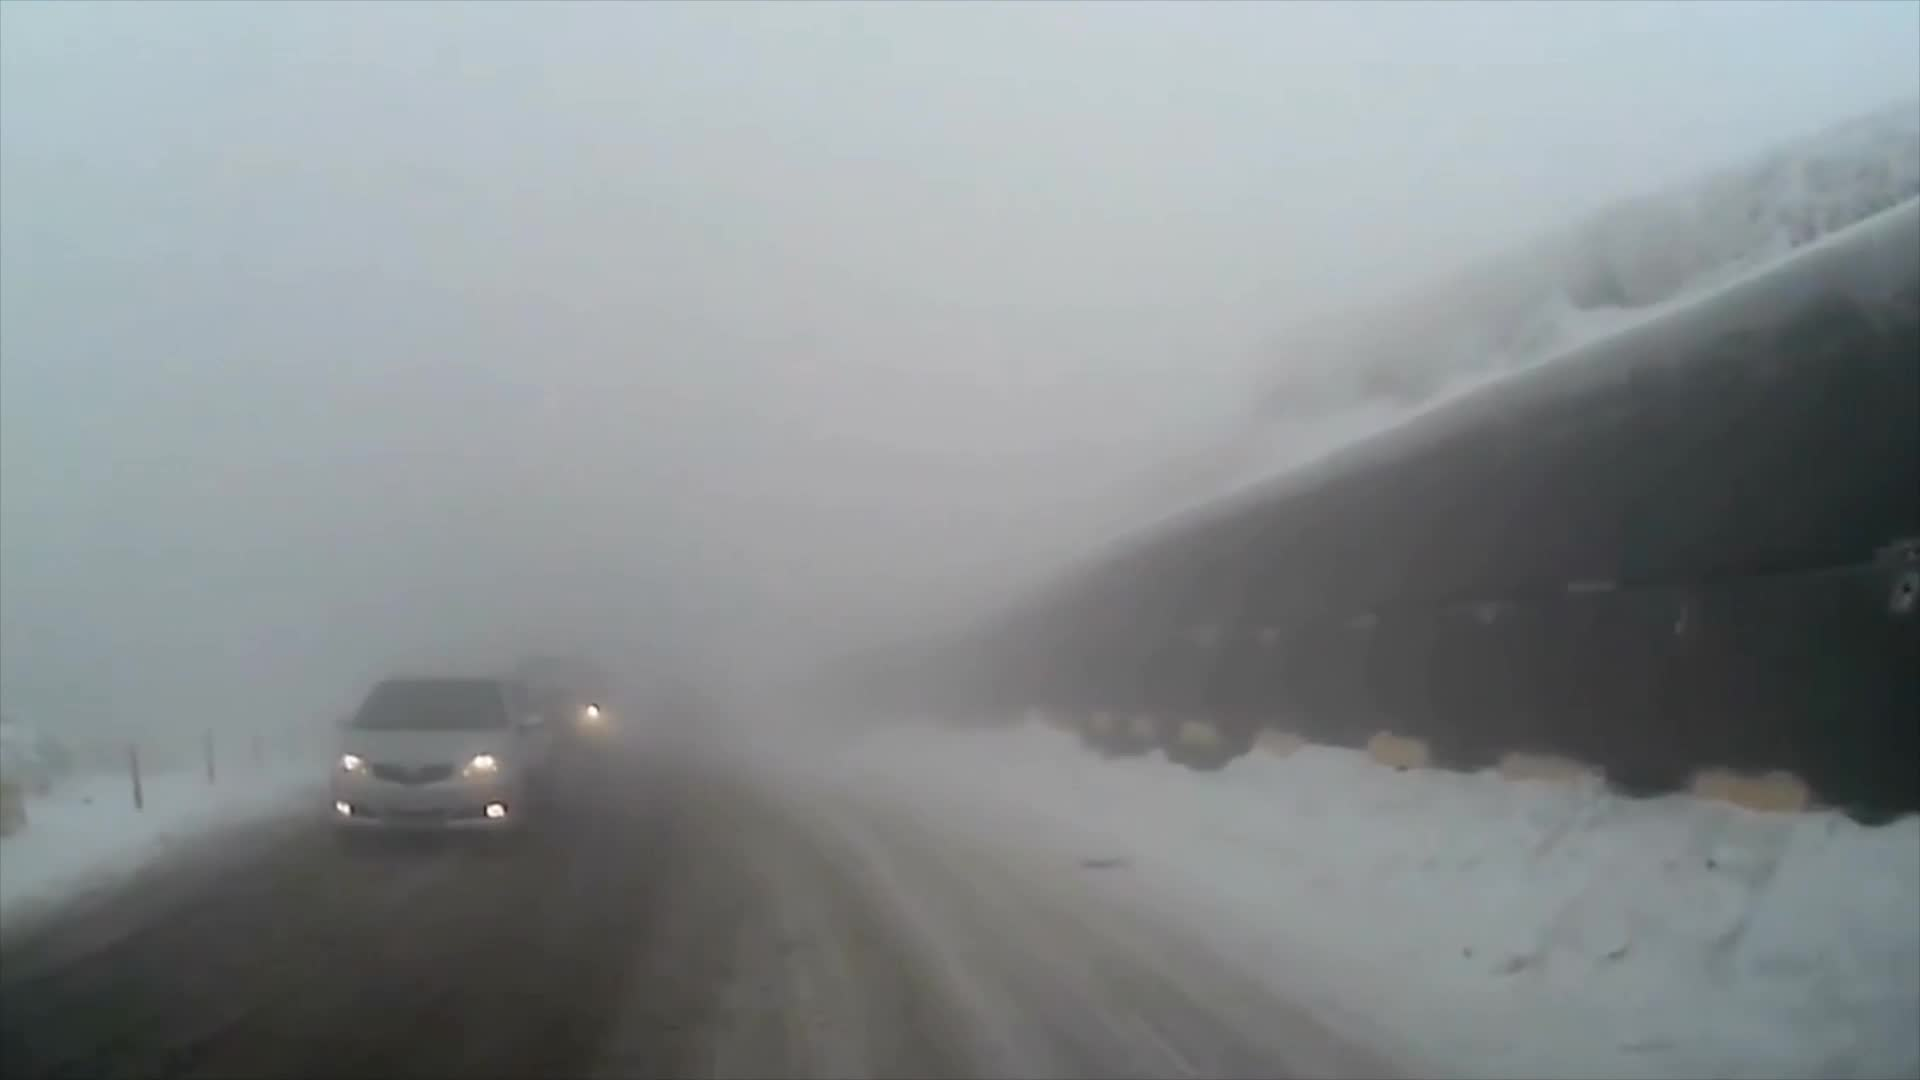vehicle: (326, 671, 554, 851)
